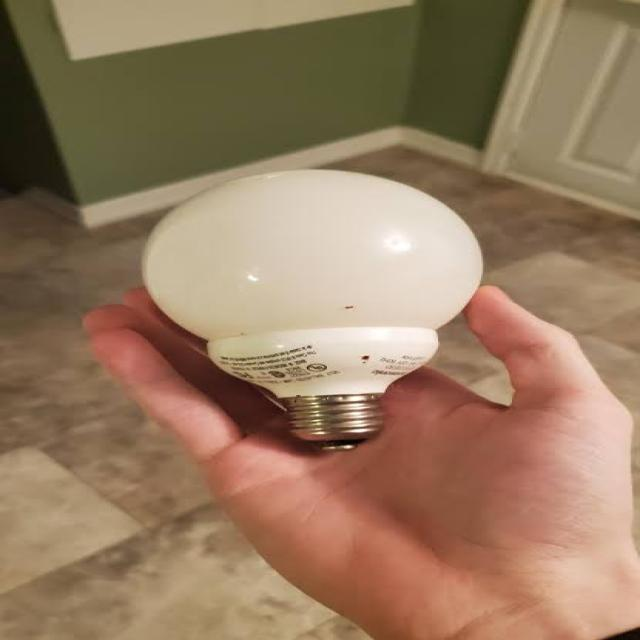bulb: (116, 166, 480, 462)
